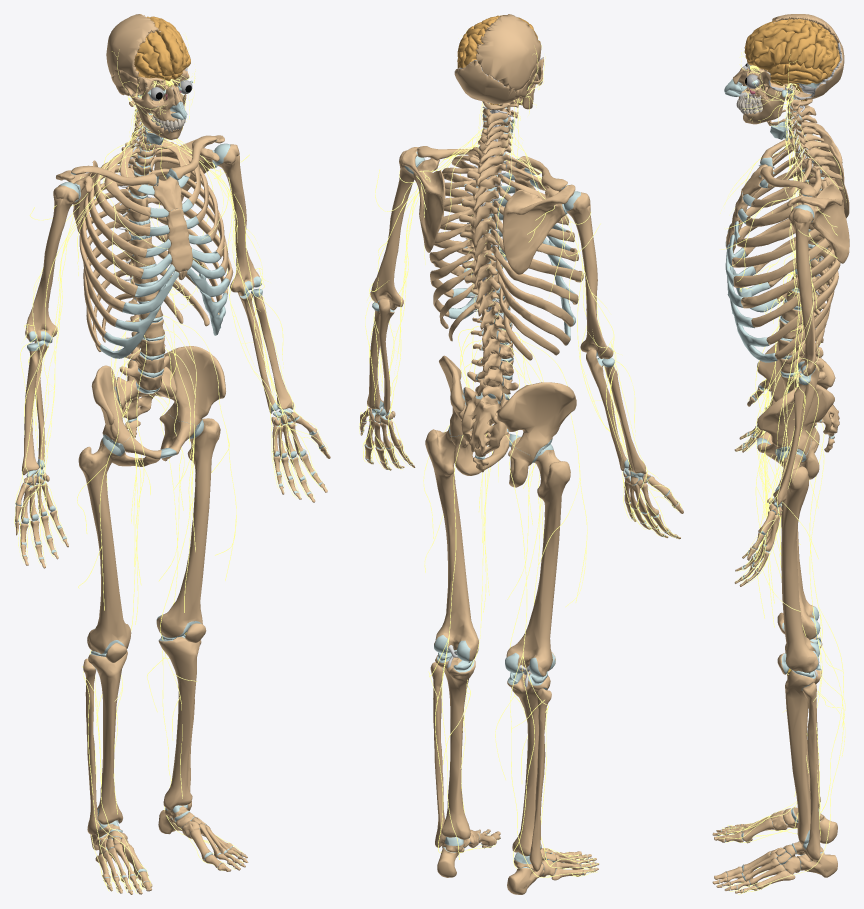
The model's file is neurology.glb.
3 renders of one model, left to right at view 1: azimuth 30°, elevation 25°; view 2: azimuth 150°, elevation 25°; view 3: azimuth 270°, elevation 25°, orthographic. The views are drawn at different scales.
Parts seen in each view (by area): view 1: Object_6, Object_103, Object_54, Object_31, Object_40, Object_62; view 2: Object_6, Object_103, Object_31, Object_54, Object_40; view 3: Object_6, Object_103, Object_40, Object_54, Object_31, Object_62, Object_163, Object_162, Object_61.
Part boxes in pixels (bbox=[...]): Object_6: bbox=[15, 14, 330, 894]; Object_103: bbox=[14, 34, 329, 893]; Object_54: bbox=[15, 94, 324, 890]; Object_31: bbox=[115, 96, 176, 437]; Object_40: bbox=[134, 16, 190, 82]; Object_62: bbox=[127, 113, 178, 458]; Object_6: bbox=[359, 14, 683, 894]; Object_103: bbox=[359, 31, 682, 877]; Object_31: bbox=[459, 100, 518, 472]; Object_54: bbox=[362, 86, 678, 875]; Object_40: bbox=[457, 15, 540, 104]; Object_6: bbox=[712, 14, 849, 893]; Object_103: bbox=[716, 49, 846, 894]; Object_40: bbox=[744, 19, 840, 100]; Object_54: bbox=[718, 79, 822, 891]; Object_31: bbox=[777, 88, 842, 452]; Object_62: bbox=[757, 111, 834, 448]; Object_163: bbox=[736, 94, 762, 114]; Object_162: bbox=[736, 42, 842, 99]; Object_61: bbox=[775, 82, 821, 677].
Bounding box in the file's own units: 0.6692 × 1.7 × 0.25.
